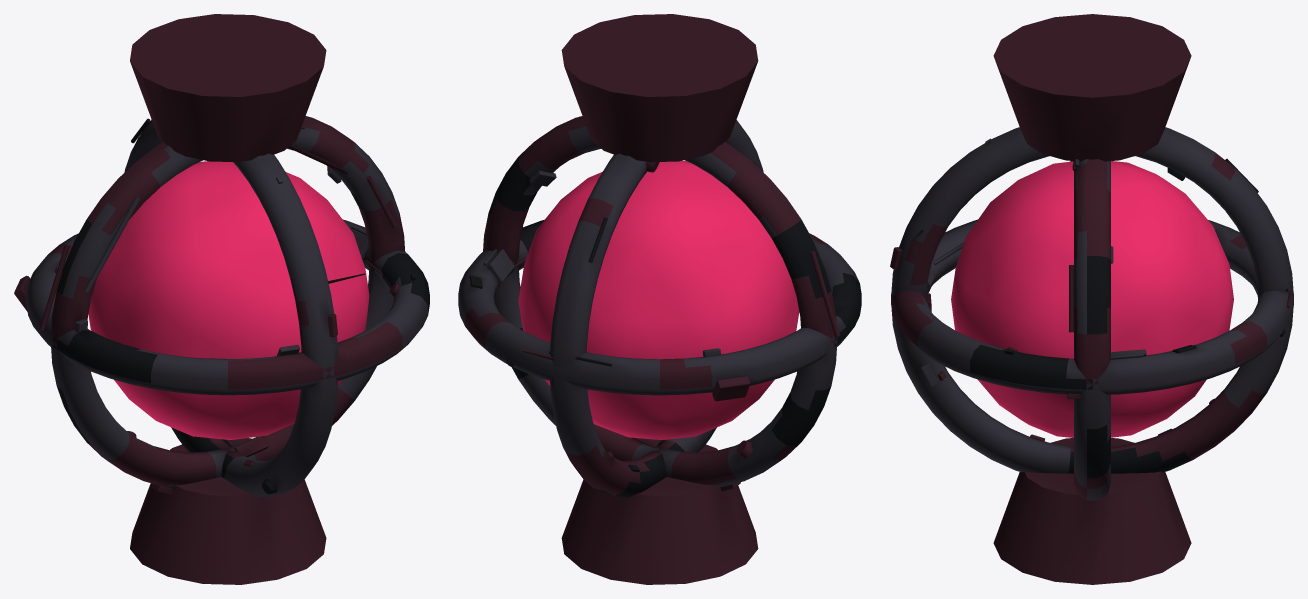
File: reactor-transformed.glb
3 renders of one model, left to right at view 1: azimuth 30°, elevation 25°; view 2: azimuth 150°, elevation 25°; view 3: azimuth 270°, elevation 25°, orthographic.
Parts seen in each view (by area): view 1: reactor; view 2: reactor; view 3: reactor.
Boxes of the visible parts, x1,y1,x2,y2 form: reactor: (14, 14, 429, 584); reactor: (458, 14, 861, 584); reactor: (890, 14, 1293, 584).
Bounding box in the file's own units: 174 × 226 × 170.
